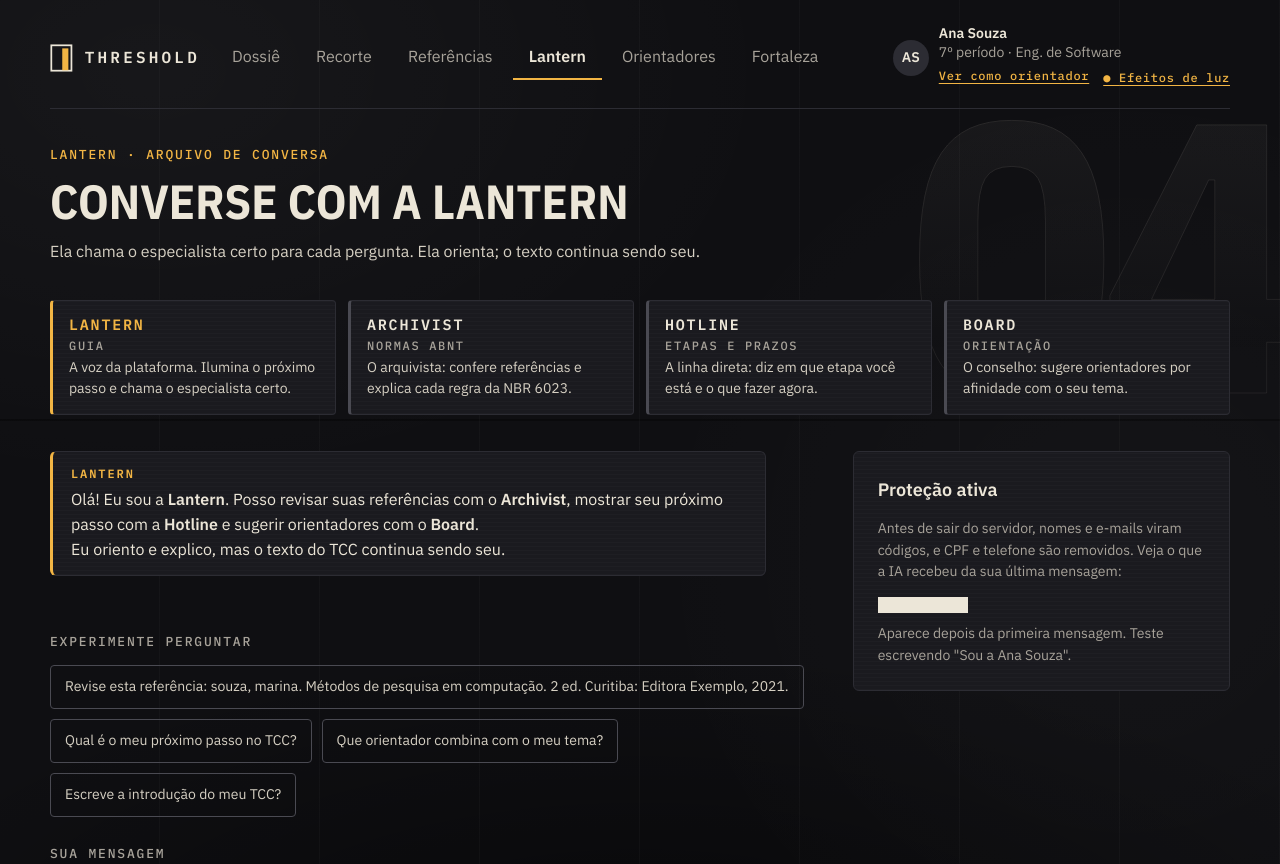
Test case: Tela da Lantern › envia uma sugestão, mostra a resposta com o selo do especialista e o painel de proteção
What coordinates should you click on to do the following:
click the button "Revise esta referência"
I would click on:
 (427, 686)
Its box is x1=50 y1=664 x2=804 y2=708.
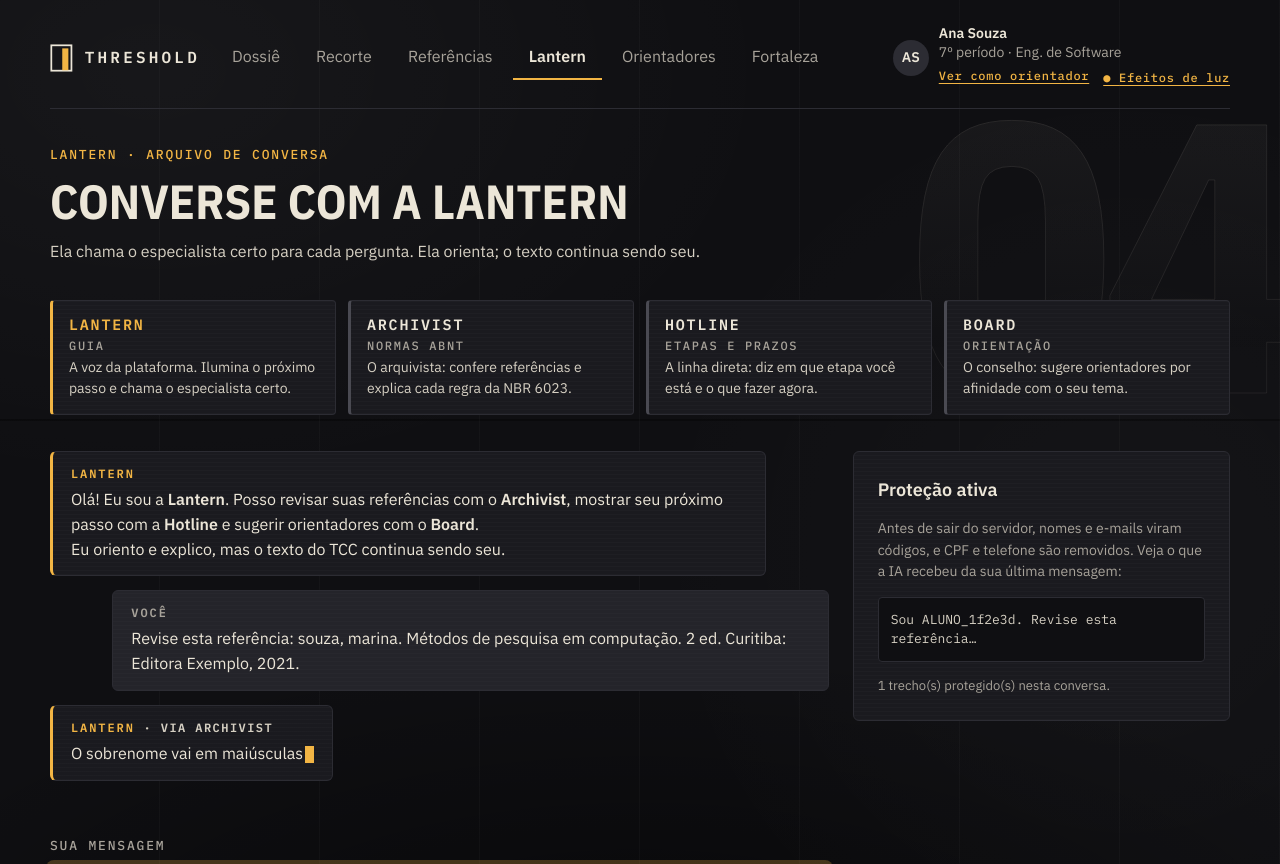
Expected: the text "· via Archivist" is shown, x1=135 y1=720 x2=273 y2=735
Expected: the text named "Texto enviado à IA" shows "ALUNO_1f2e3d", x1=891 y1=611 x2=1125 y2=648
Expected: the text "1 trecho(s) protegido(s) nesta conversa." is shown, x1=878 y1=677 x2=1110 y2=694
